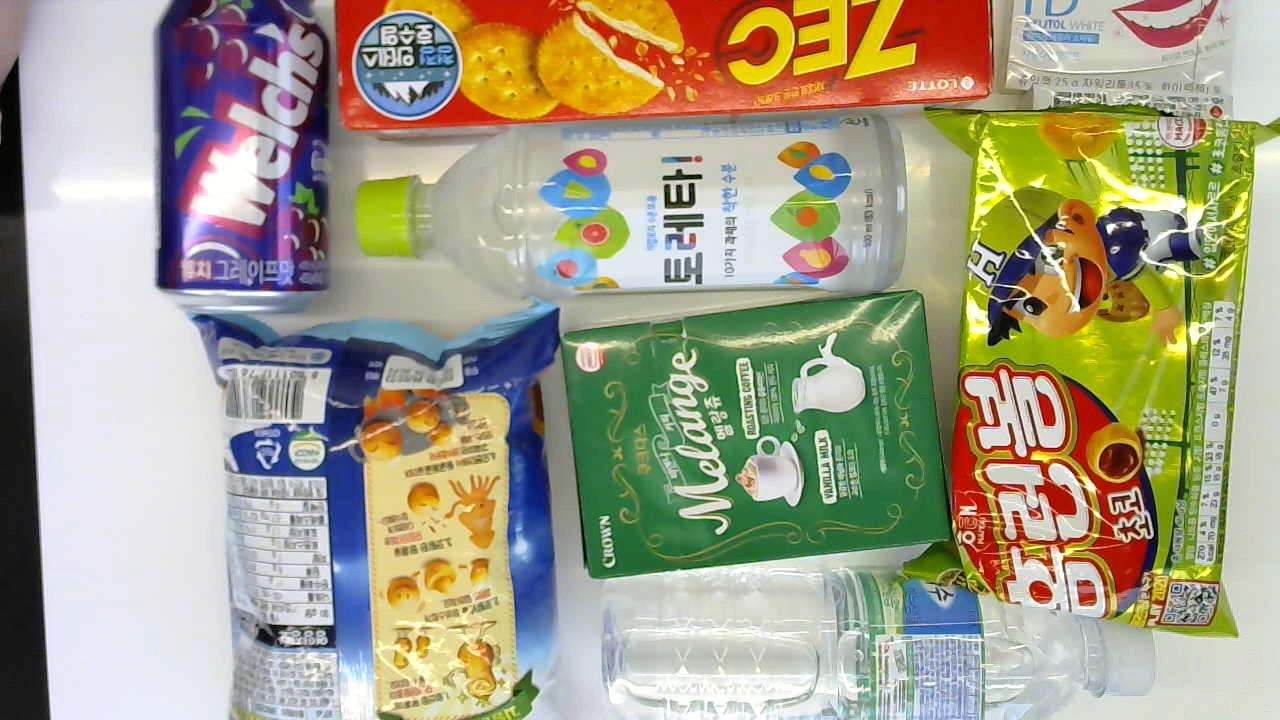ID_gum: (1007, 0, 1260, 89)
couque_coffee: (562, 305, 950, 575)
homerunball: (924, 111, 1270, 587)
samdasu: (600, 557, 1155, 716)
spearmint: (1035, 85, 1239, 127)
squid_peanut: (182, 312, 572, 714)
toreta: (340, 133, 906, 299)
welchs: (150, 0, 333, 317)
zec: (339, 0, 1003, 138)
